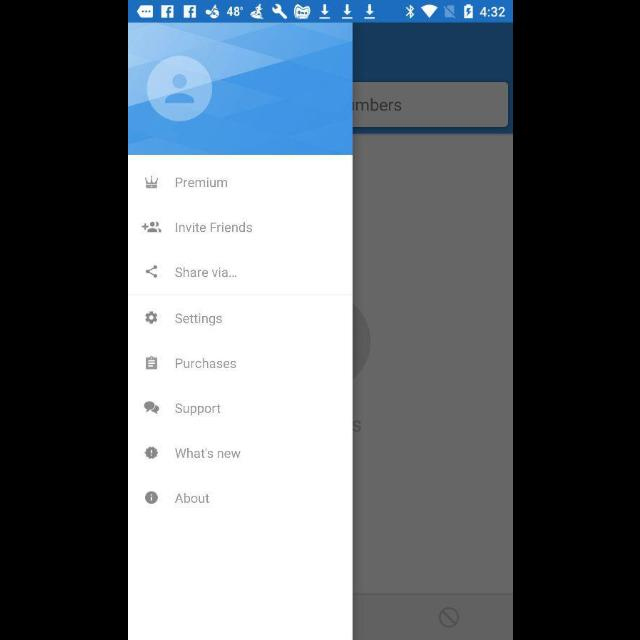icon: (146, 56, 212, 122), (141, 222, 163, 234), (144, 492, 158, 504), (144, 447, 158, 459), (144, 402, 158, 414), (145, 356, 157, 370), (144, 312, 158, 324), (145, 266, 157, 278)
image: (145, 175, 159, 189)
panel: (128, 24, 352, 640)
text: (175, 222, 252, 234), (174, 447, 240, 459), (174, 358, 236, 370), (174, 313, 222, 327), (174, 268, 236, 278), (174, 404, 222, 416), (175, 178, 228, 188), (174, 493, 210, 503)
uppertaskbar: (128, 1, 512, 23)
